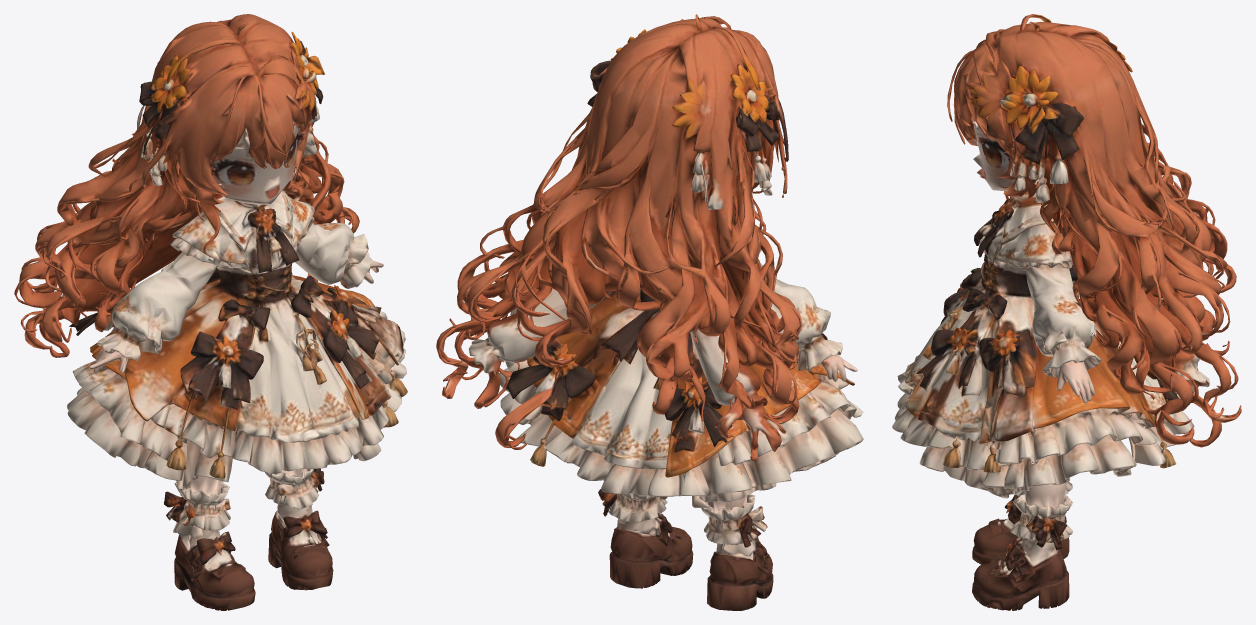
The model's file is claude.glb.
3 renders of one model, left to right at view 1: azimuth 30°, elevation 25°; view 2: azimuth 150°, elevation 25°; view 3: azimuth 270°, elevation 25°, orthographic. The views are drawn at different scales.
Parts seen in each view (by area): view 1: claude; view 2: claude; view 3: claude.
Boxes of the visible parts, x1=… form: claude: x1=14, y1=14, x2=407, y2=610; claude: x1=436, y1=14, x2=863, y2=610; claude: x1=892, y1=14, x2=1241, y2=610.
Bounding box in the file's own units: 0.6112 × 0.9804 × 0.5582.
Materials: 1 (1 with a texture image).
